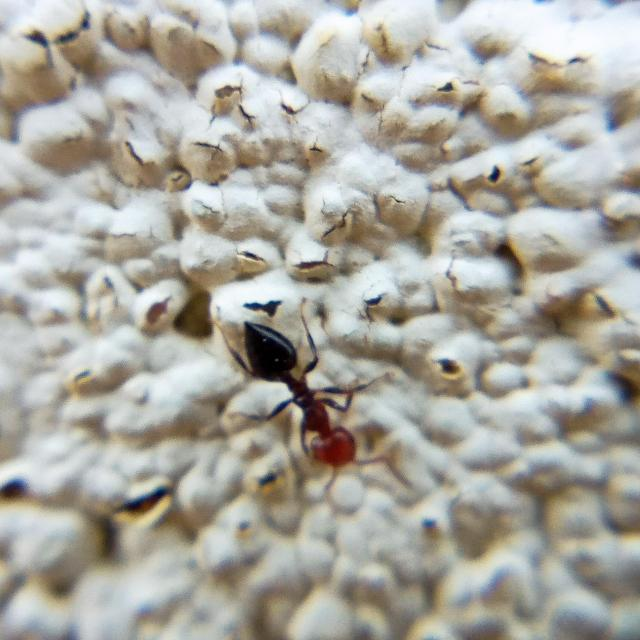Crematogaster: (230, 308, 370, 466)
